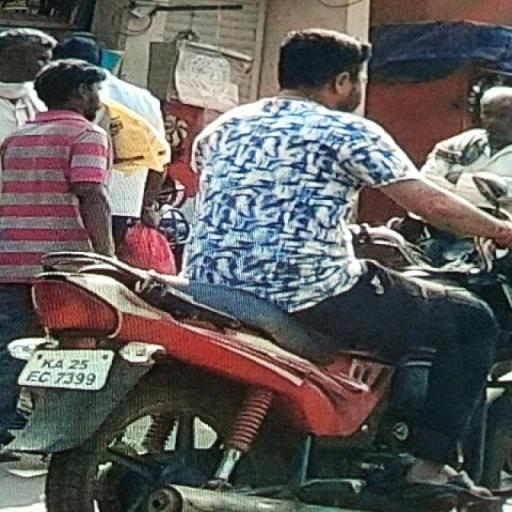bike: (11, 19, 512, 512)
numberplate: (22, 342, 104, 386)
withouthelmet: (279, 29, 368, 96)
